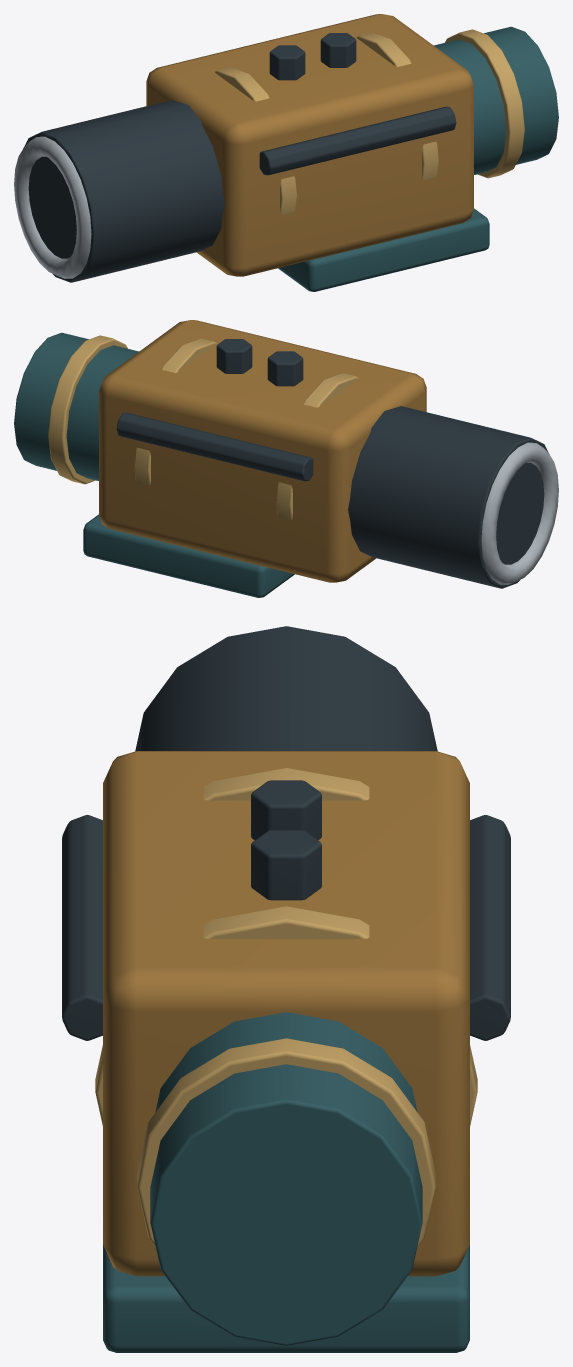
The model's file is part_ballistic.glb.
3 views of the same model, one above another, from view 1: azimuth 30°, elevation 25°; view 2: azimuth 150°, elevation 25°; view 3: azimuth 270°, elevation 25° (orthographic). The views are drawn at different scales.
Visible parts, largest first — view 1: SM_part_ballistic; view 2: SM_part_ballistic; view 3: SM_part_ballistic.
Part boxes in pixels (<box>): SM_part_ballistic: <box>14,14,558,291</box>; SM_part_ballistic: <box>14,320,558,597</box>; SM_part_ballistic: <box>62,626,510,1352</box>.
Bounding box in the file's own units: 0.4208 × 0.173 × 0.1713.
